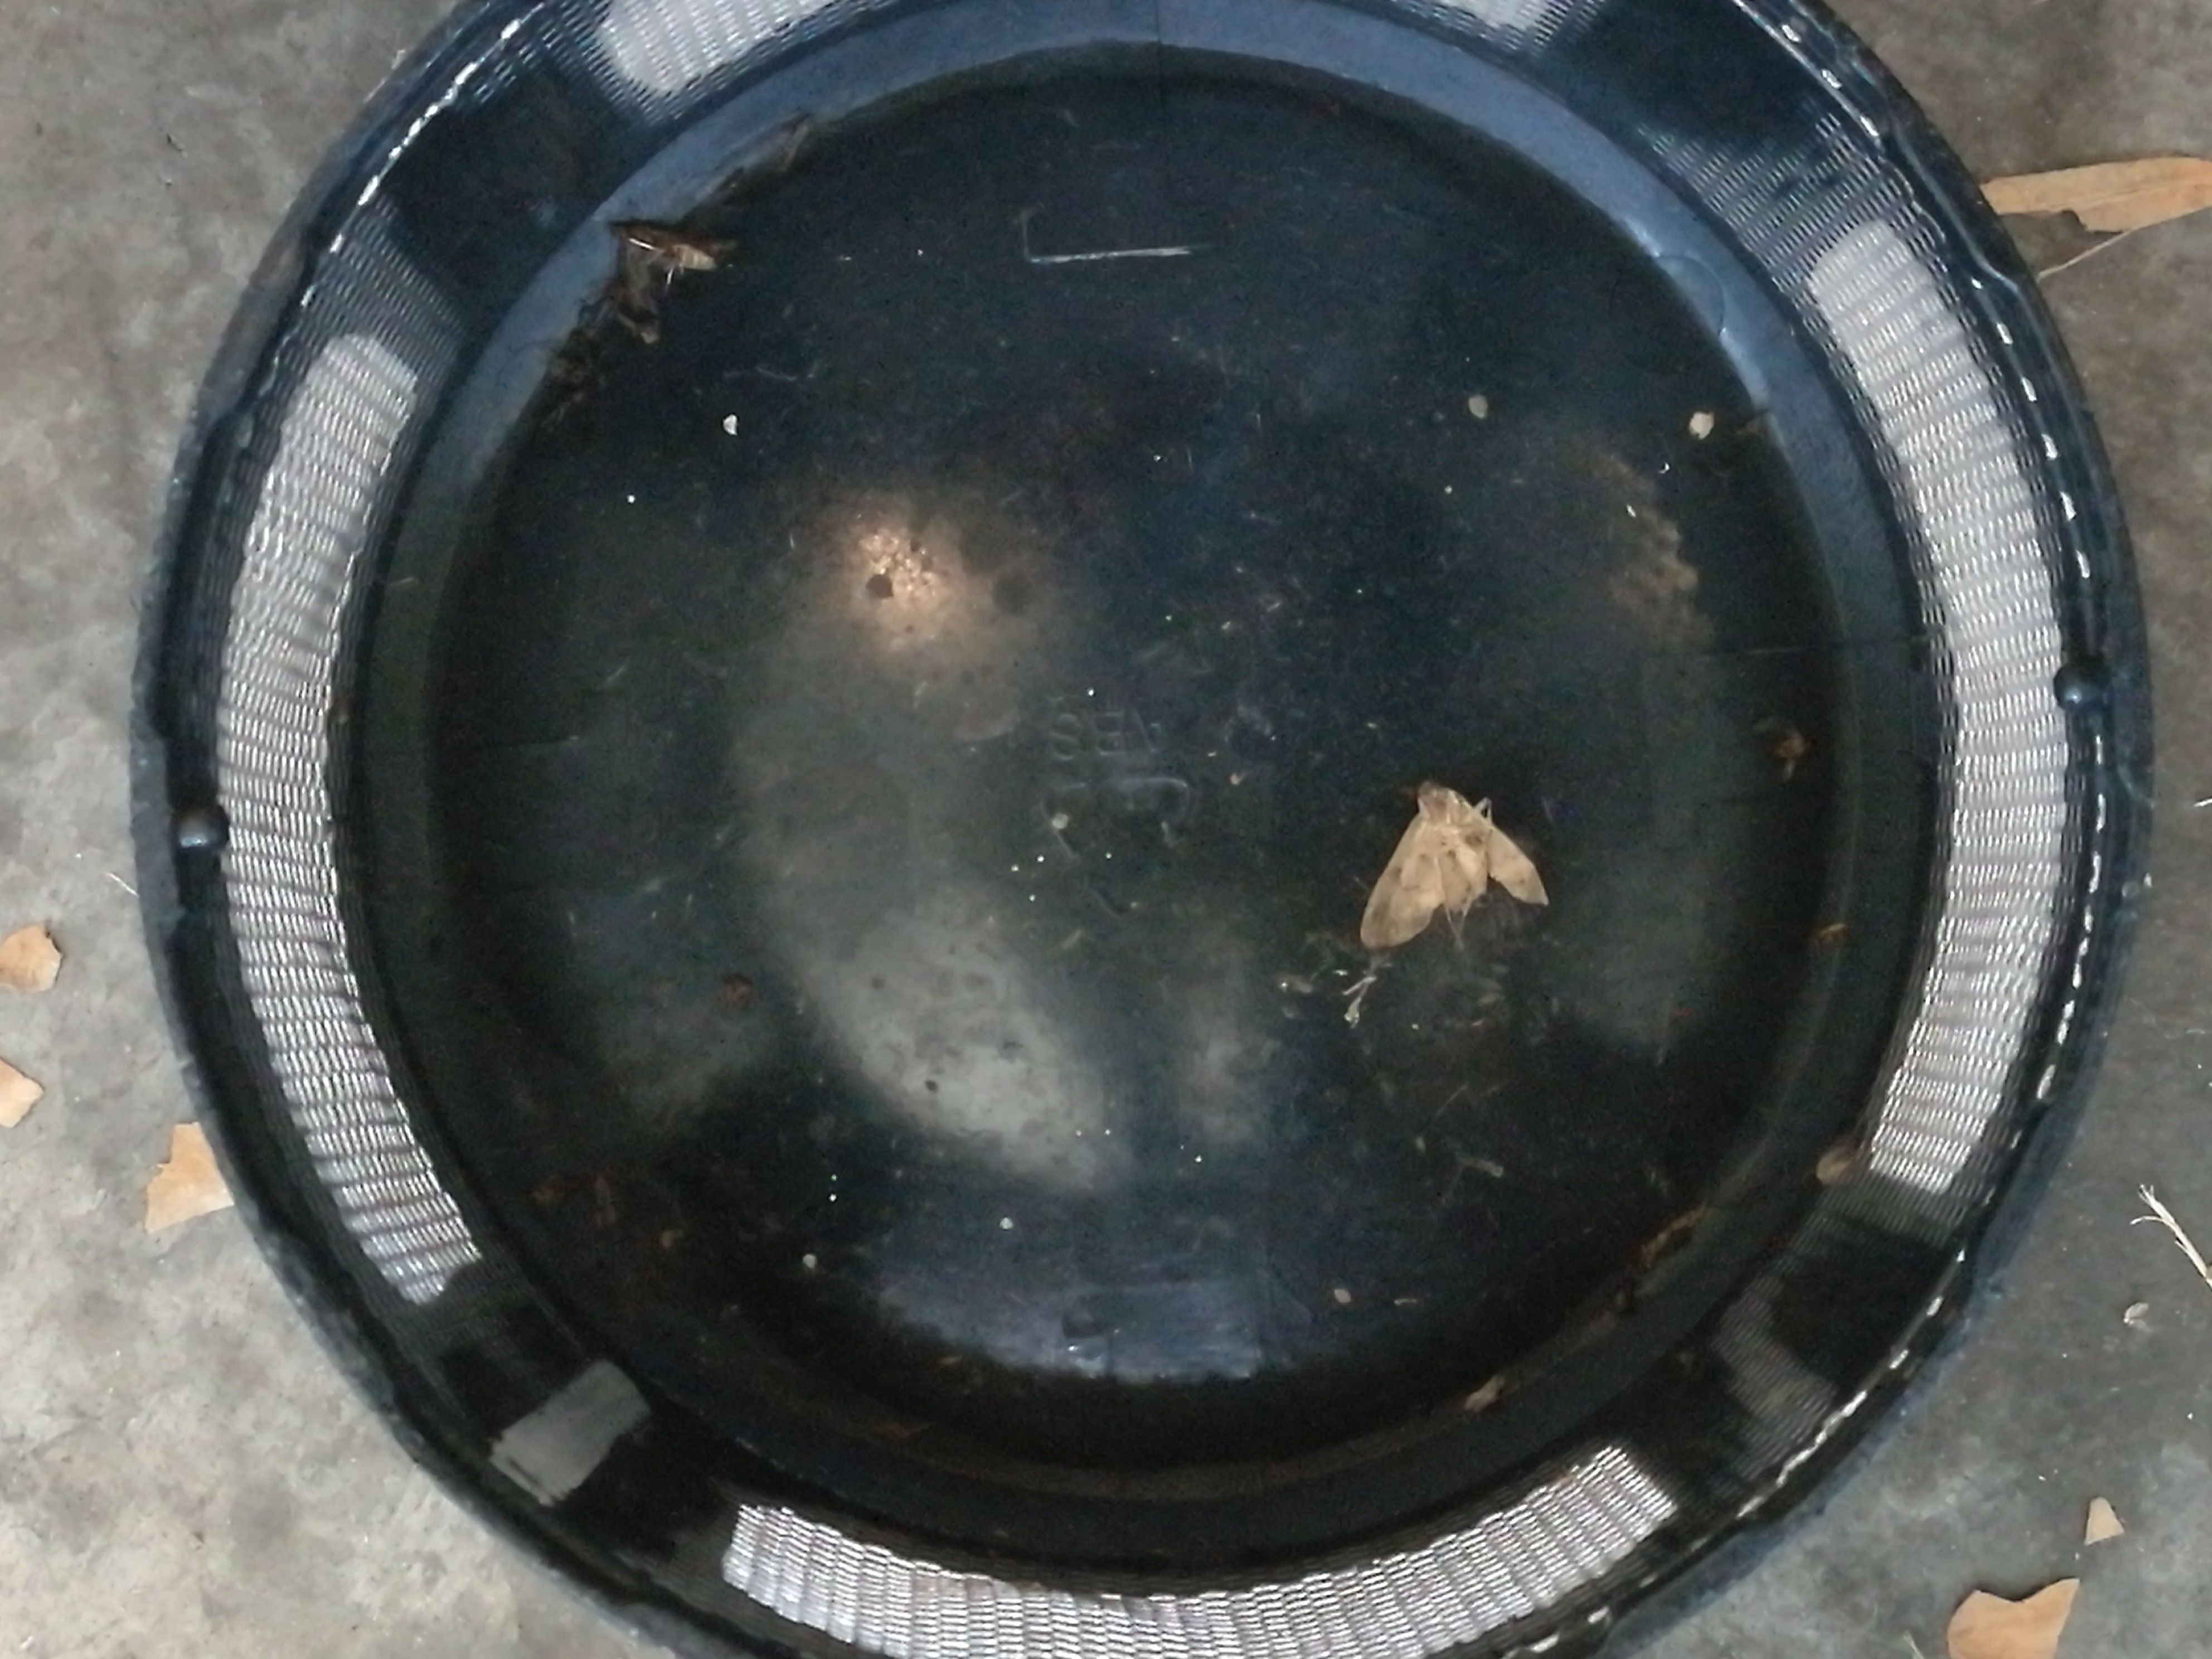moth: (1362, 781, 1547, 946), (608, 220, 738, 347)
